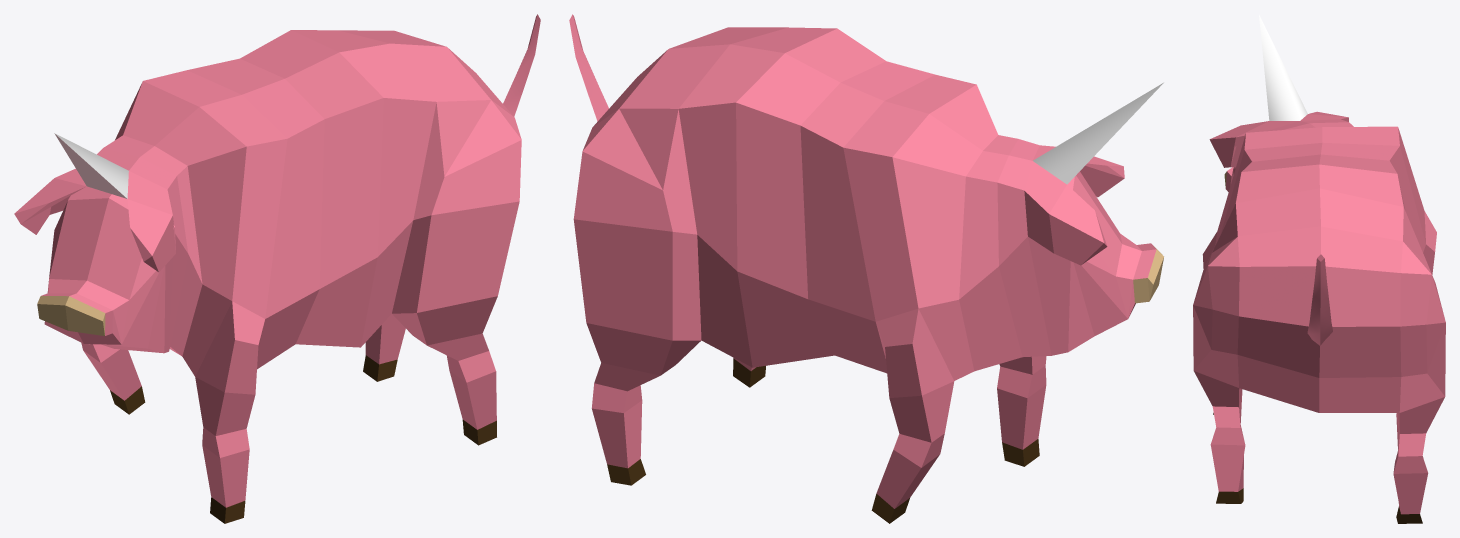
File: pigRunning7.obj
The picture shows the model from 3 angles, left to right: view 1: azimuth 30°, elevation 25°; view 2: azimuth 150°, elevation 25°; view 3: azimuth 270°, elevation 25°; orthographic projection. The views are drawn at different scales.
Parts seen in each view (by area): view 1: Pig_Cylinder.002_Pig_Cylinder.003; view 2: Pig_Cylinder.002_Pig_Cylinder.003; view 3: Pig_Cylinder.002_Pig_Cylinder.003.
Boxes of the visible parts, bbox=[...] form: Pig_Cylinder.002_Pig_Cylinder.003: bbox=[14, 14, 540, 523]; Pig_Cylinder.002_Pig_Cylinder.003: bbox=[569, 14, 1163, 523]; Pig_Cylinder.002_Pig_Cylinder.003: bbox=[1193, 15, 1445, 523].
Bounding box in the file's own units: 22.08 × 16.43 × 11.11.
